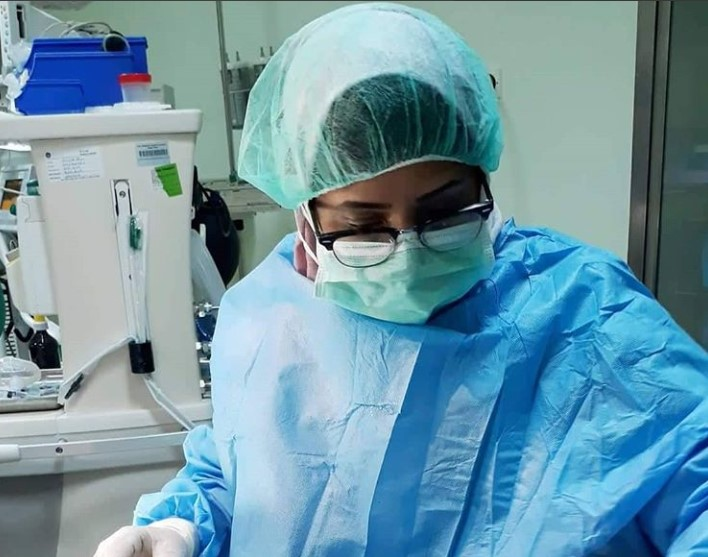face_with_mask: (249, 4, 507, 325)
